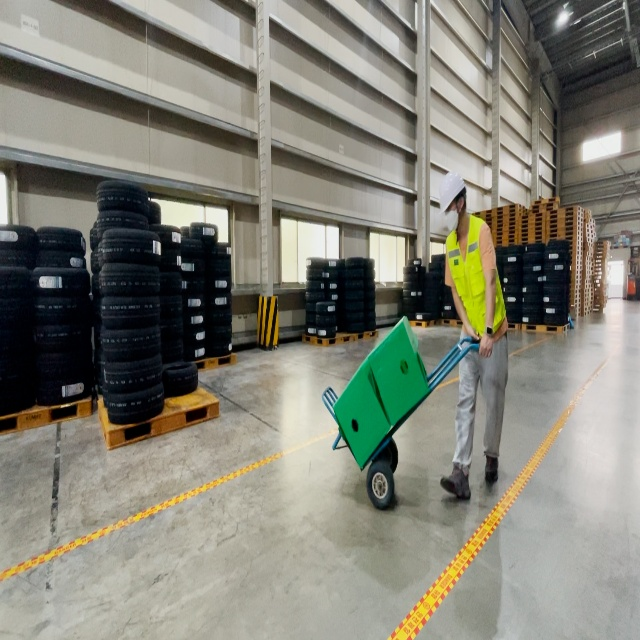Box: (366, 314, 429, 427), (332, 353, 392, 471)
Worker: (437, 171, 510, 502)
